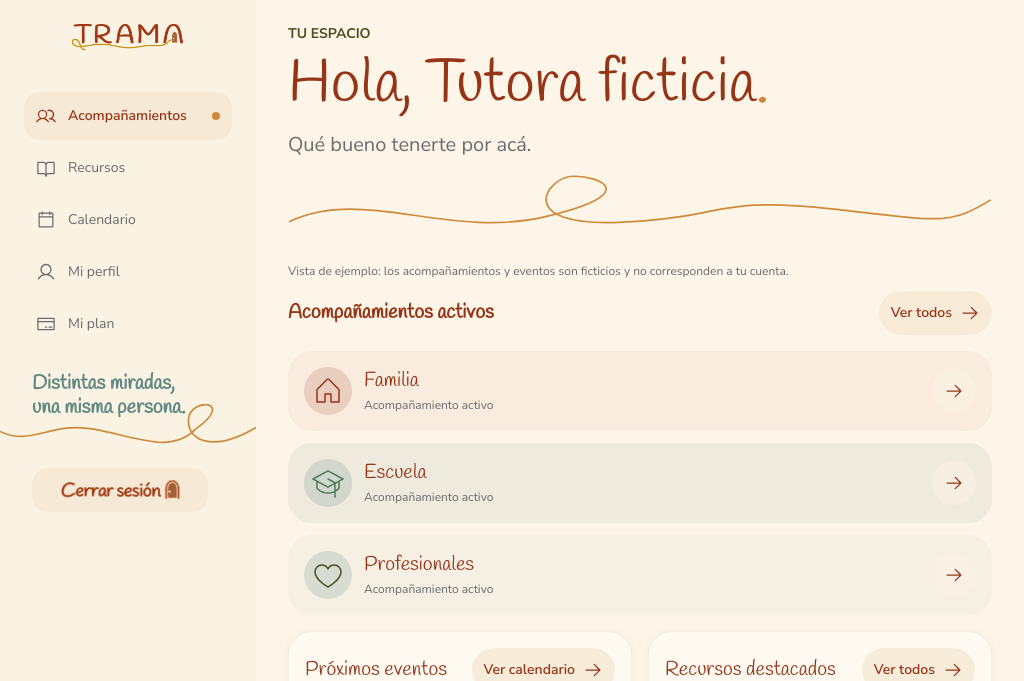
Test: Recorrido Dashboard → Acompañamientos → Perfil › permite recorrer el flujo desde Acompañamientos y volver
Click the link "Acompañamientos" at (128, 116), box top-left (24, 92), bottom-right (232, 140)
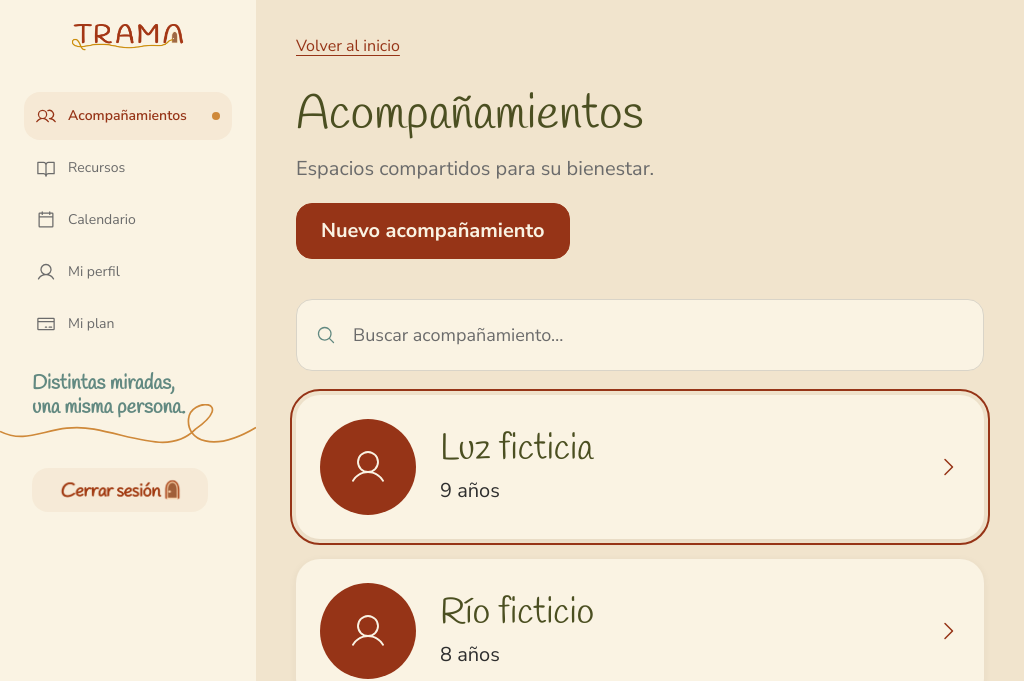
Check: the heading "Luz ficticia" is shown, box top-left (440, 425), bottom-right (593, 473)
Press Enter
(page scrolled)
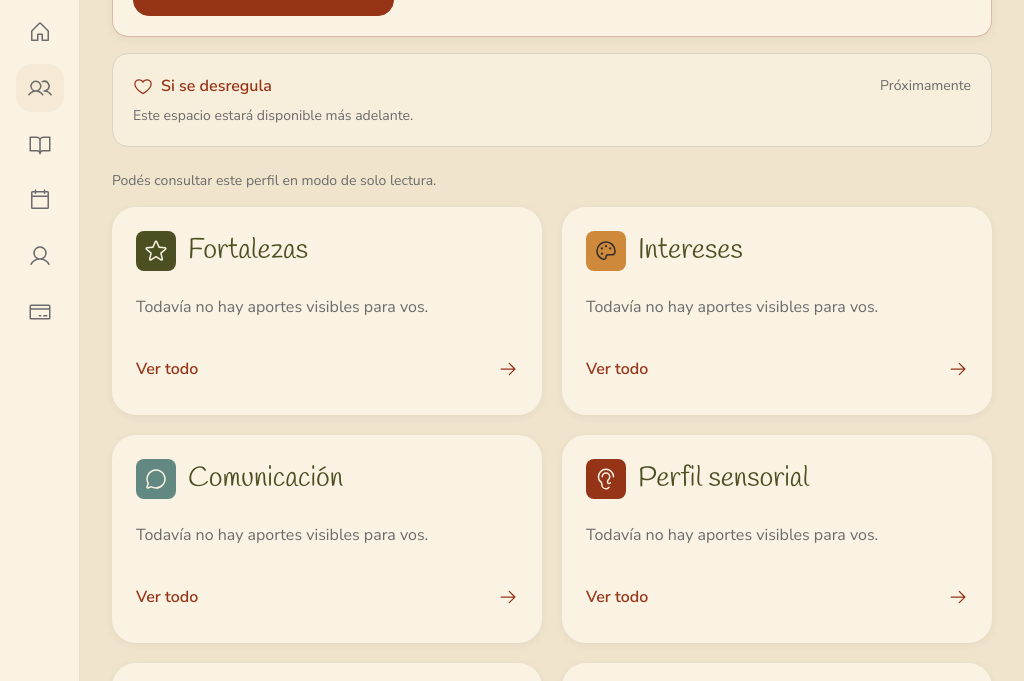
Check: the heading "Fortalezas" is shown, box top-left (188, 233), bottom-right (308, 269)
Check: the number of links named "Ver todo:" is 6
Click the link with aria-label "Ver todo: Intereses" at (617, 369), box top-left (586, 358), bottom-right (968, 380)
(page scrolled)
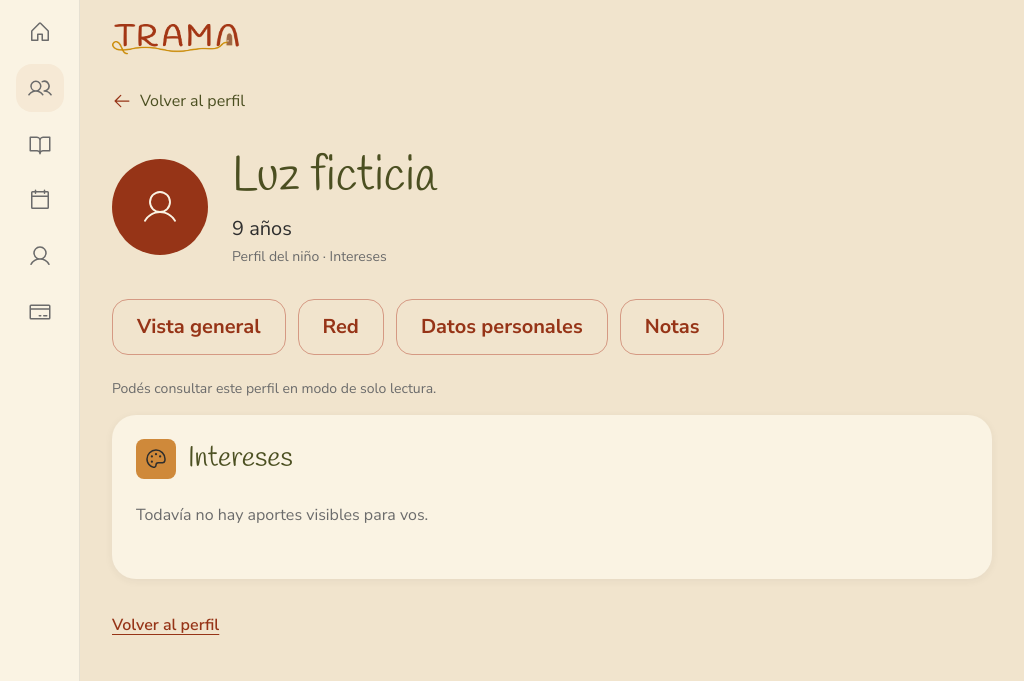
Check: the heading "Intereses" is shown, box top-left (188, 441), bottom-right (293, 477)
Click the 1st link "Volver al perfil" at (178, 101), box top-left (112, 90), bottom-right (245, 112)
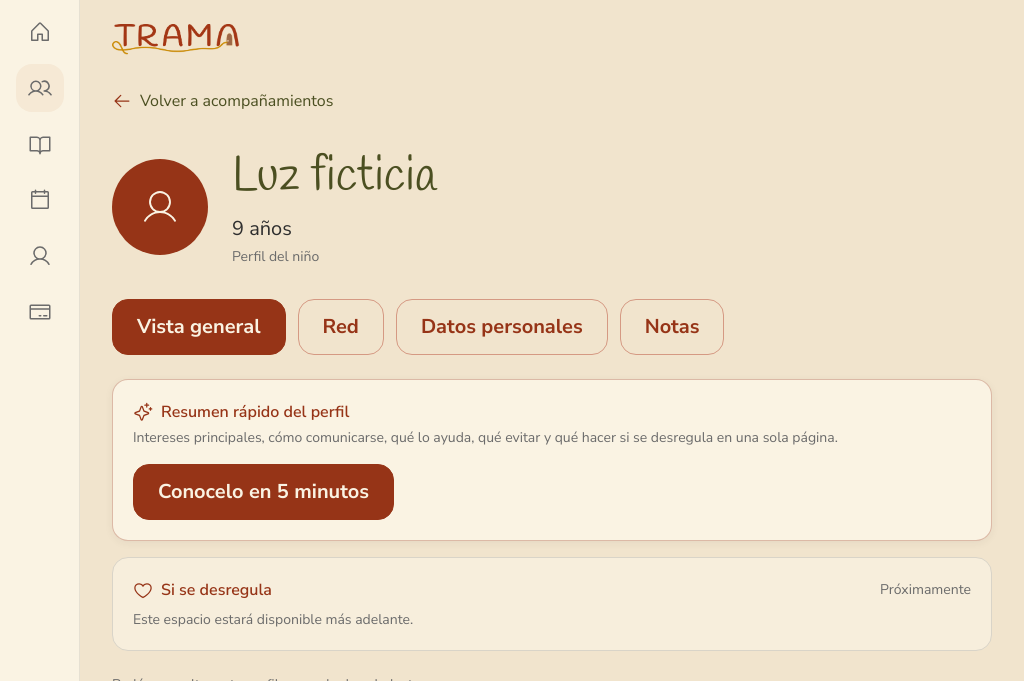
Click the link "Volver a acompañamientos" at (223, 101), box top-left (112, 90), bottom-right (333, 112)
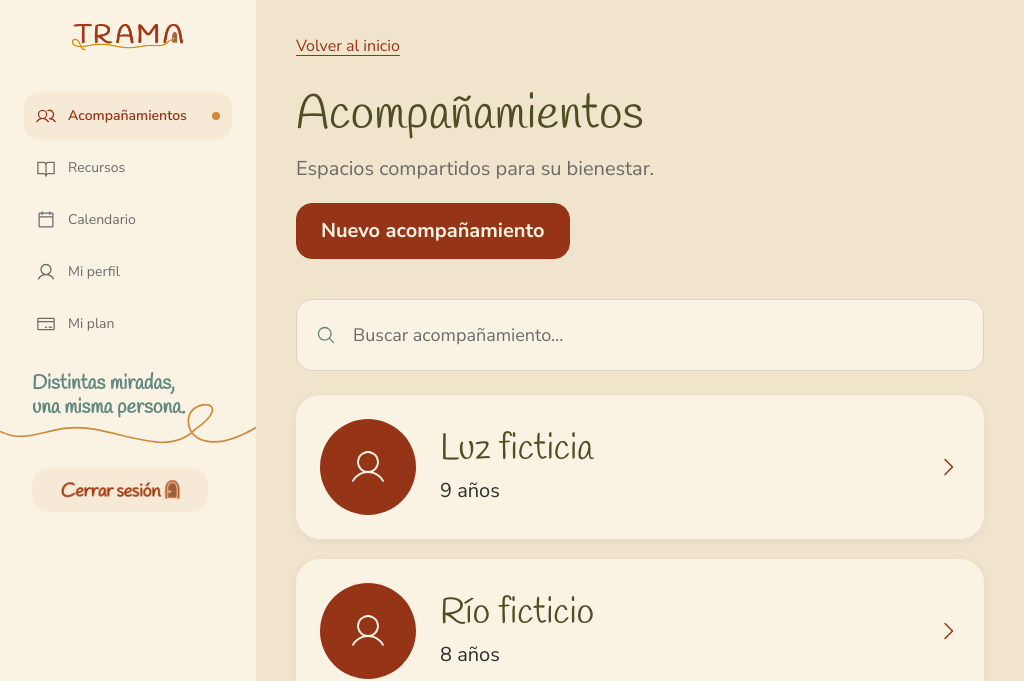
Check: the link with aria-label "Ver perfil de Luz ficticia" is shown, box top-left (296, 395), bottom-right (984, 539)
Click the link "Volver al inicio" at (348, 46), box top-left (296, 35), bottom-right (400, 57)
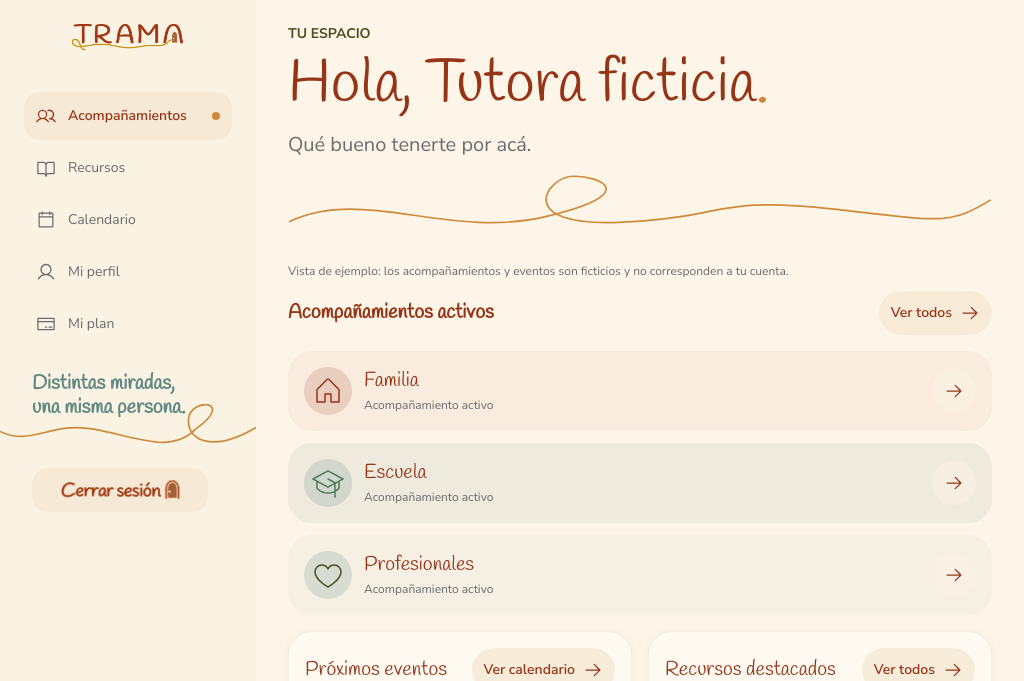
Check: the heading "Acompañamientos activos" is shown, box top-left (288, 299), bottom-right (494, 327)
